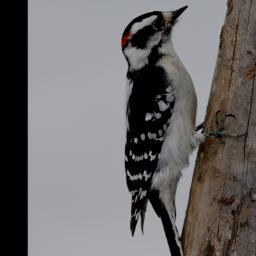Woodpecker: (118, 1, 247, 256)
